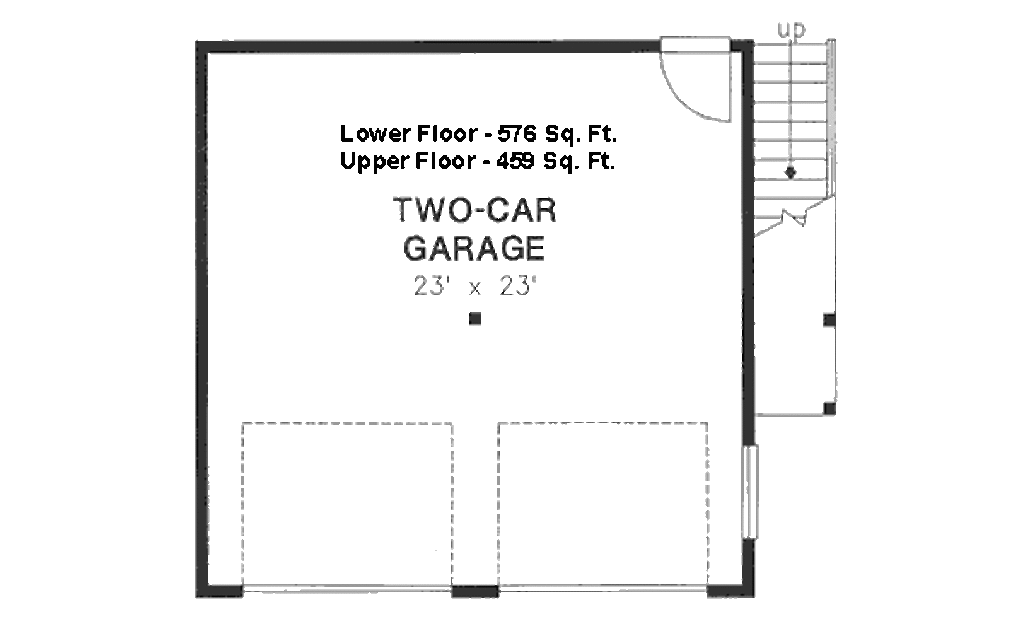door: (656, 37, 737, 125)
stairs: (753, 37, 846, 251)
window: (740, 450, 764, 541)
